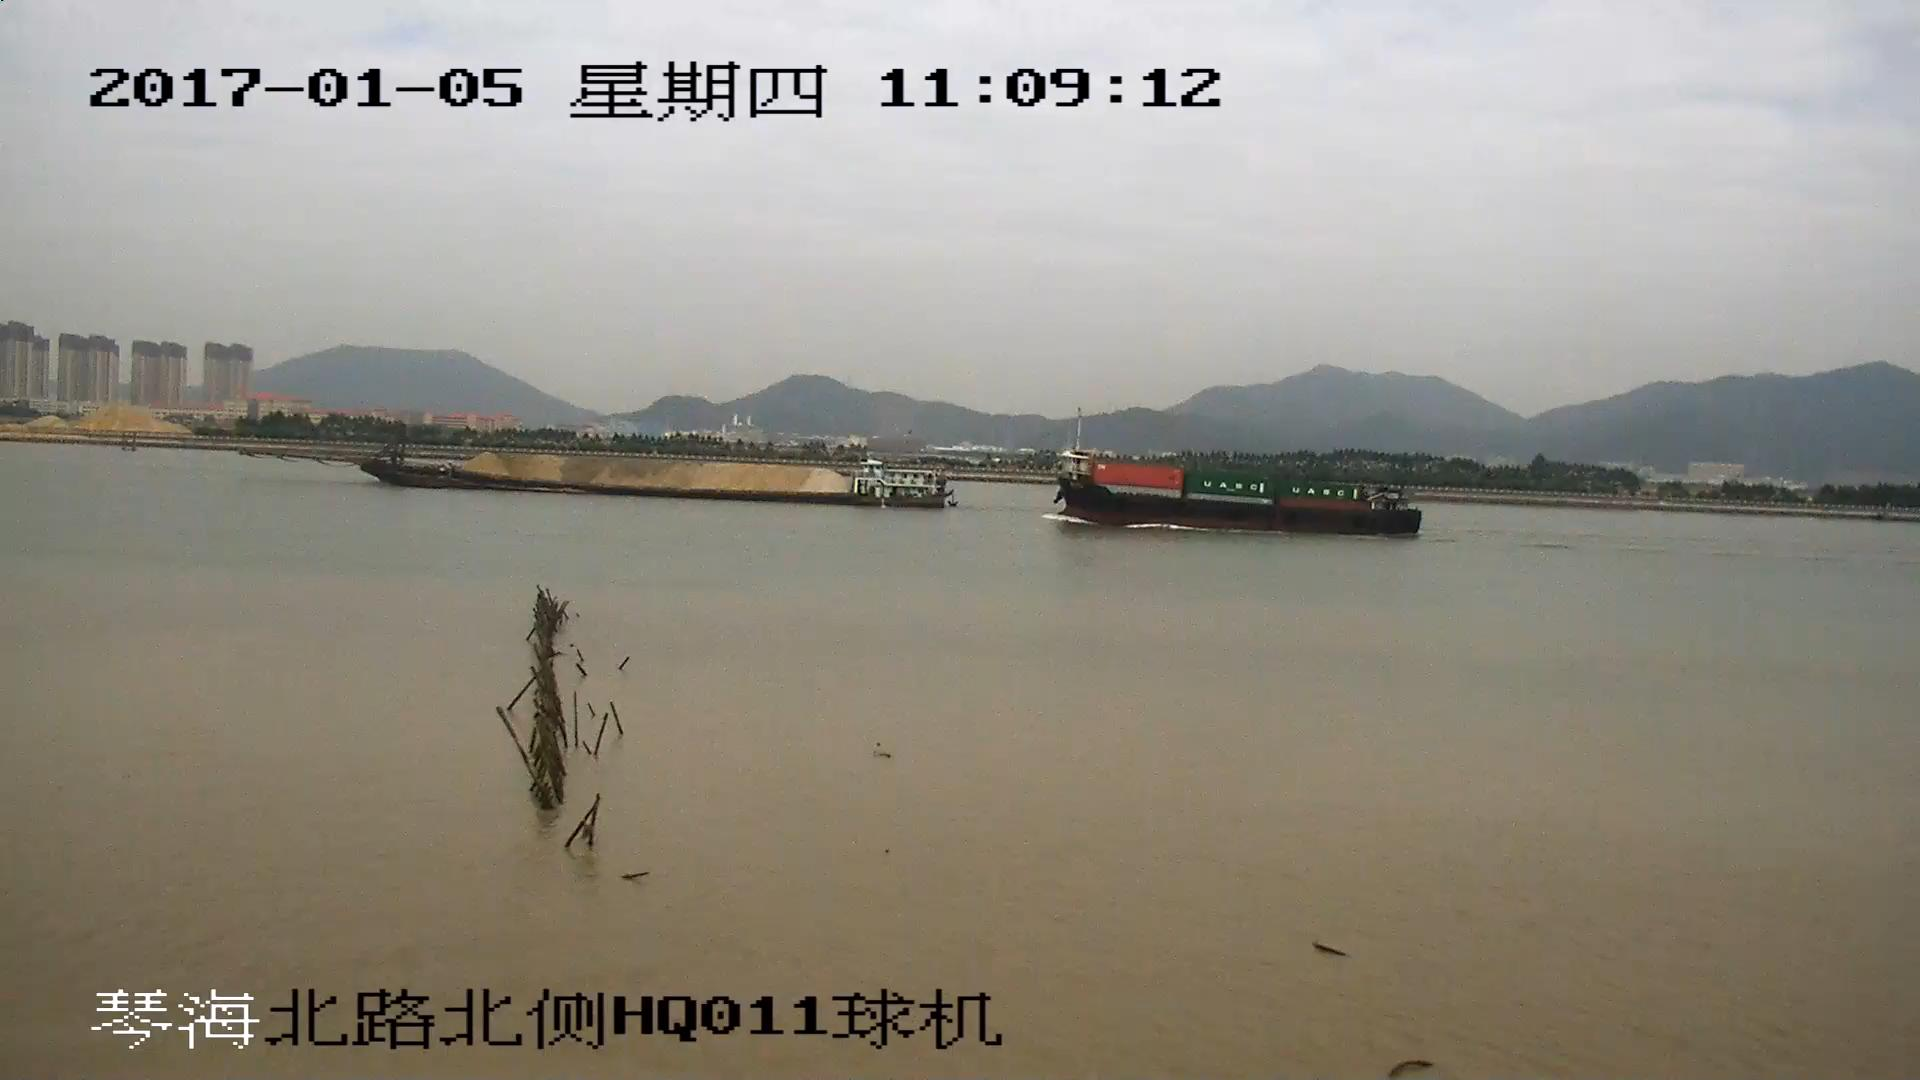container ship: (1056, 447, 1419, 536)
ore carrier: (266, 423, 953, 510)
